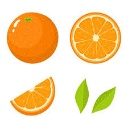orange: (69, 11, 123, 64), (6, 13, 60, 64), (9, 75, 57, 117)
